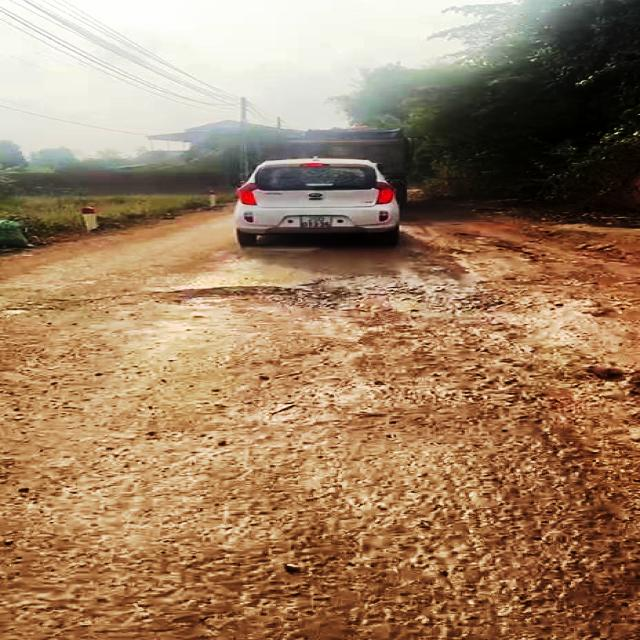pothole: (148, 282, 490, 320)
